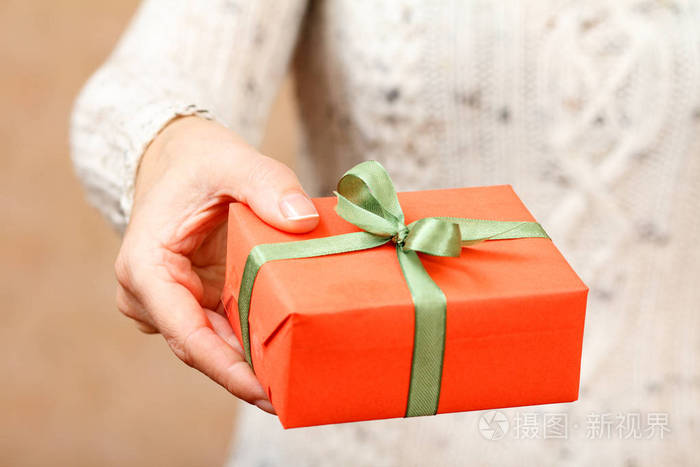no-phone: (106, 111, 597, 432)
